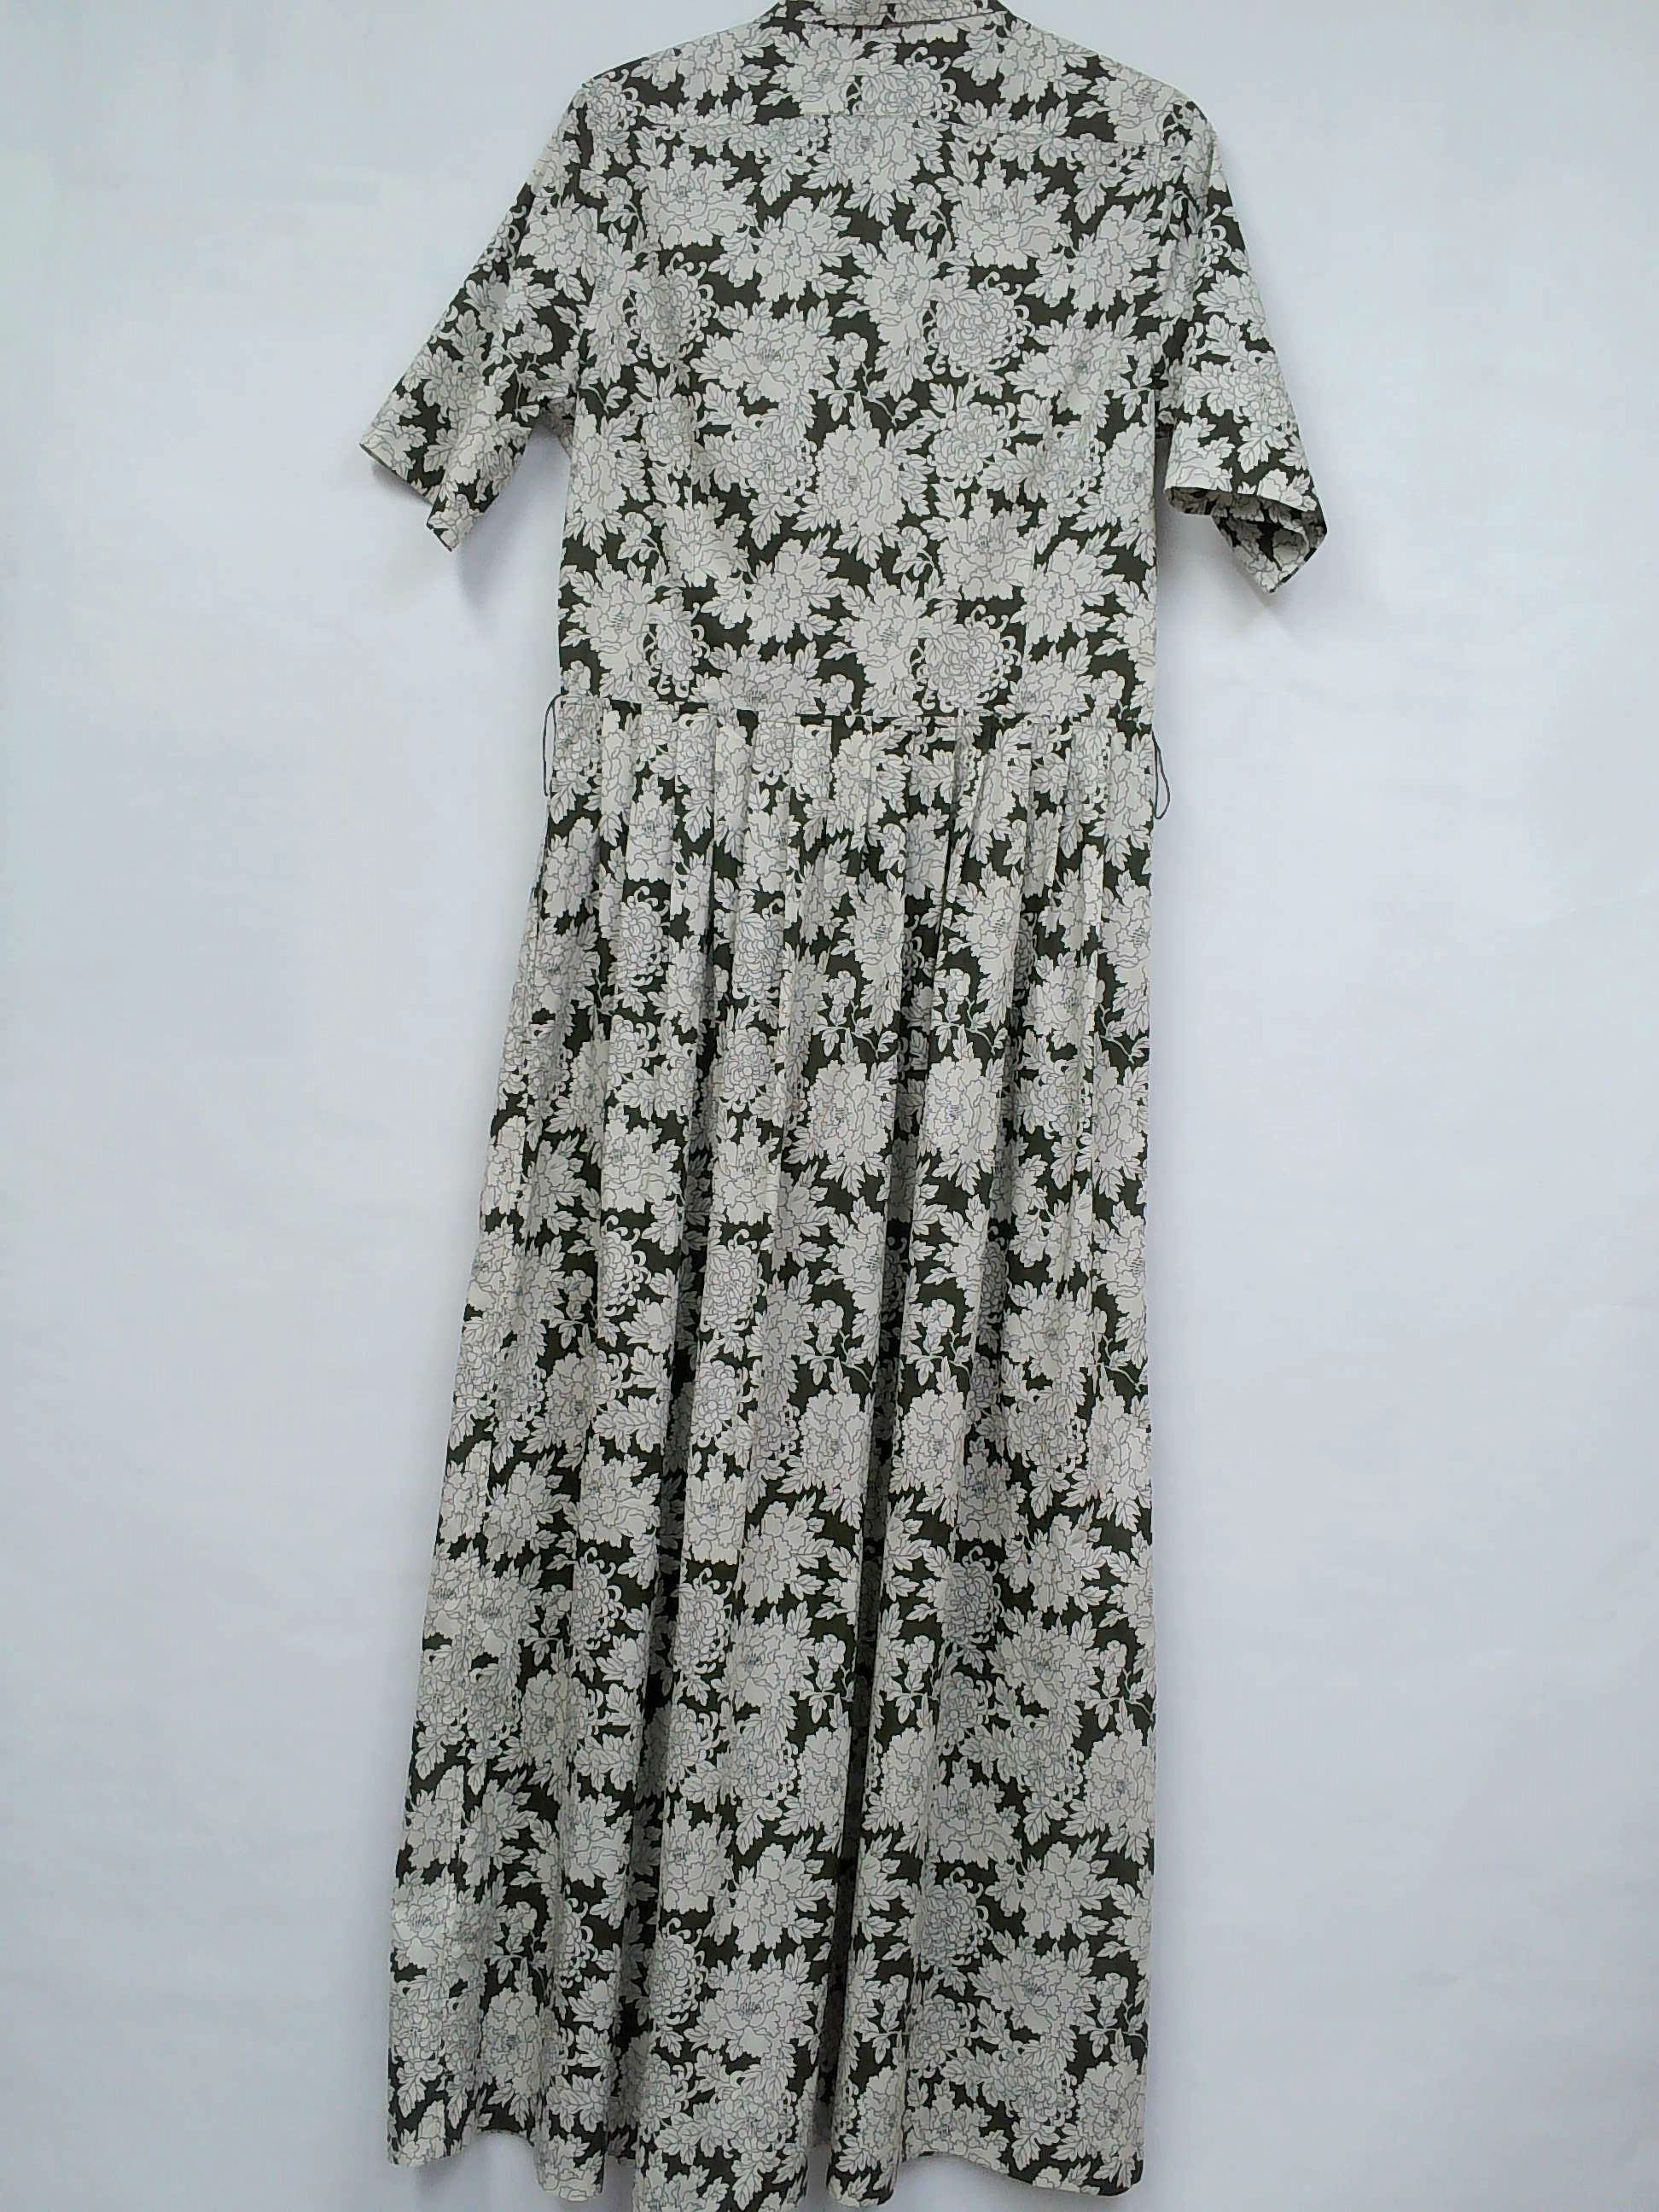seam: (709, 683, 1012, 777)
